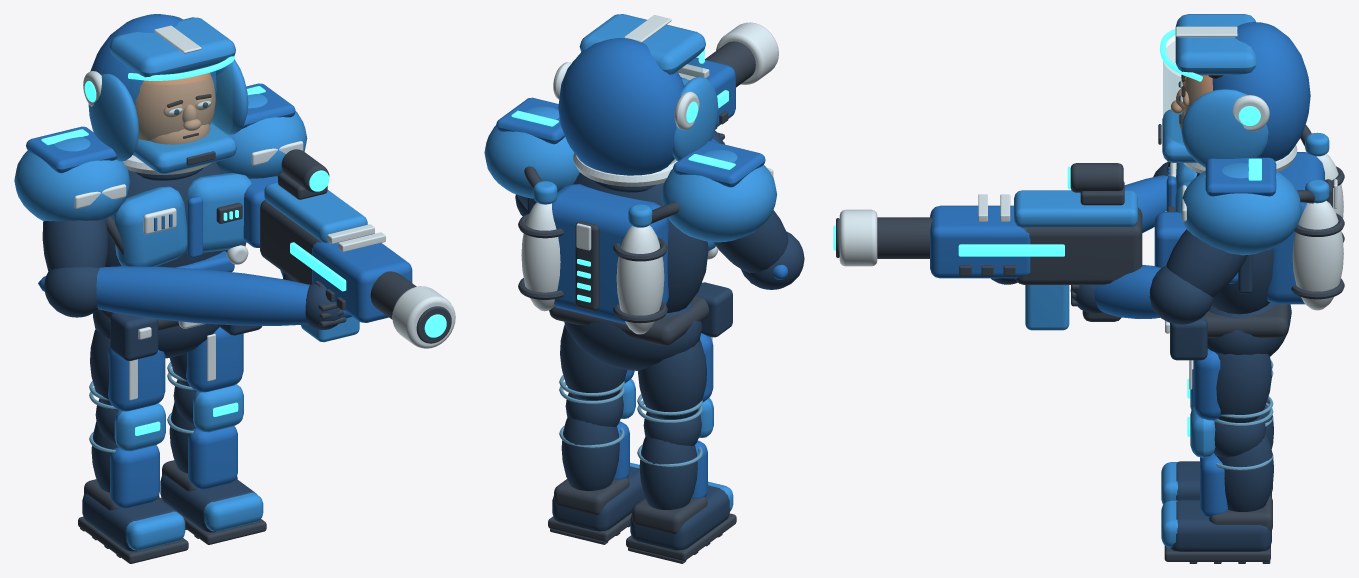
The model's file is Vanguard.fbx.
3 views of the same model, side by side, from view 1: azimuth 30°, elevation 25°; view 2: azimuth 150°, elevation 25°; view 3: azimuth 270°, elevation 25° (orthographic).
Parts seen in each view (by area): view 1: Marine_Left forearm sleeve, Marine_Visor, Marine_Left shoulder pad, Marine_Helmet brow, Marine_Pectoral armor, Marine_Rifle forward guard, Marine_Right shoulder pad, Marine_Head, Marine_Left upper sleeve, Marine_Pectoral armor.001, Marine_Rifle upper shroud, Marine_Helmet cheek (+43 smaller); view 2: Marine_Helmet rear, Marine_Life support backpack, Marine_Left shoulder pad, Marine_Right shoulder pad, Marine_Pressure suit hips, Marine_Left trouser thigh, Marine_Oxygen tank, Marine_Pressure suit torso, Marine_Left trouser calf, Marine_Right trouser calf, Marine_Helmet brow, Marine_Oxygen tank.001 (+34 smaller); view 3: Marine_Right shoulder pad, Marine_Helmet rear, Marine_Rifle receiver, Marine_Rifle forward guard, Marine_Helmet cheek.001, Marine_Rifle upper shroud, Marine_Oxygen tank.001, Marine_Helmet brow, Marine_Right trouser thigh, Marine_Right boot, Marine_Right upper sleeve, Marine_Right trouser calf (+28 smaller).
Part boxes in pixels (bbox=[...]): Marine_Left forearm sleeve: bbox=[38, 266, 351, 325]; Marine_Visor: bbox=[130, 62, 232, 151]; Marine_Left shoulder pad: bbox=[14, 137, 130, 221]; Marine_Helmet brow: bbox=[109, 17, 235, 77]; Marine_Pectoral armor: bbox=[112, 186, 187, 266]; Marine_Rifle forward guard: bbox=[312, 241, 412, 322]; Marine_Right shoulder pad: bbox=[211, 94, 307, 178]; Marine_Head: bbox=[135, 68, 215, 140]; Marine_Left upper sleeve: bbox=[42, 219, 108, 270]; Marine_Pectoral armor.001: bbox=[187, 173, 251, 252]; Marine_Rifle upper shroud: bbox=[264, 182, 367, 242]; Marine_Helmet cheek: bbox=[88, 74, 138, 161]; Marine_Helmet rear: bbox=[558, 38, 684, 175]; Marine_Life support backpack: bbox=[552, 184, 668, 324]; Marine_Left shoulder pad: bbox=[661, 150, 777, 242]; Marine_Right shoulder pad: bbox=[484, 106, 579, 198]; Marine_Pressure suit hips: bbox=[564, 299, 701, 370]; Marine_Left trouser thigh: bbox=[638, 339, 706, 419]; Marine_Oxygen tank: bbox=[616, 225, 664, 334]; Marine_Pressure suit torso: bbox=[573, 172, 708, 312]; Marine_Left trouser calf: bbox=[639, 437, 697, 509]; Marine_Right trouser calf: bbox=[561, 417, 619, 490]; Marine_Helmet brow: bbox=[579, 14, 705, 74]; Marine_Oxygen tank.001: bbox=[521, 202, 560, 311]; Marine_Right shoulder pad: bbox=[1180, 163, 1301, 255]; Marine_Helmet rear: bbox=[1212, 22, 1310, 161]; Marine_Rifle receiver: bbox=[1015, 207, 1142, 284]; Marine_Rifle forward guard: bbox=[930, 205, 1030, 278]; Marine_Helmet cheek.001: bbox=[1181, 89, 1268, 167]; Marine_Rifle upper shroud: bbox=[1014, 190, 1137, 226]; Marine_Oxygen tank.001: bbox=[1292, 200, 1343, 310]; Marine_Helmet brow: bbox=[1175, 14, 1256, 75]; Marine_Right trouser thigh: bbox=[1216, 352, 1271, 422]; Marine_Right boot: bbox=[1170, 499, 1271, 551]; Marine_Right upper sleeve: bbox=[1166, 229, 1247, 297]; Marine_Right trouser calf: bbox=[1215, 433, 1273, 511].
Bounding box in the file's own units: 1.48 × 2.51 × 2.31.
